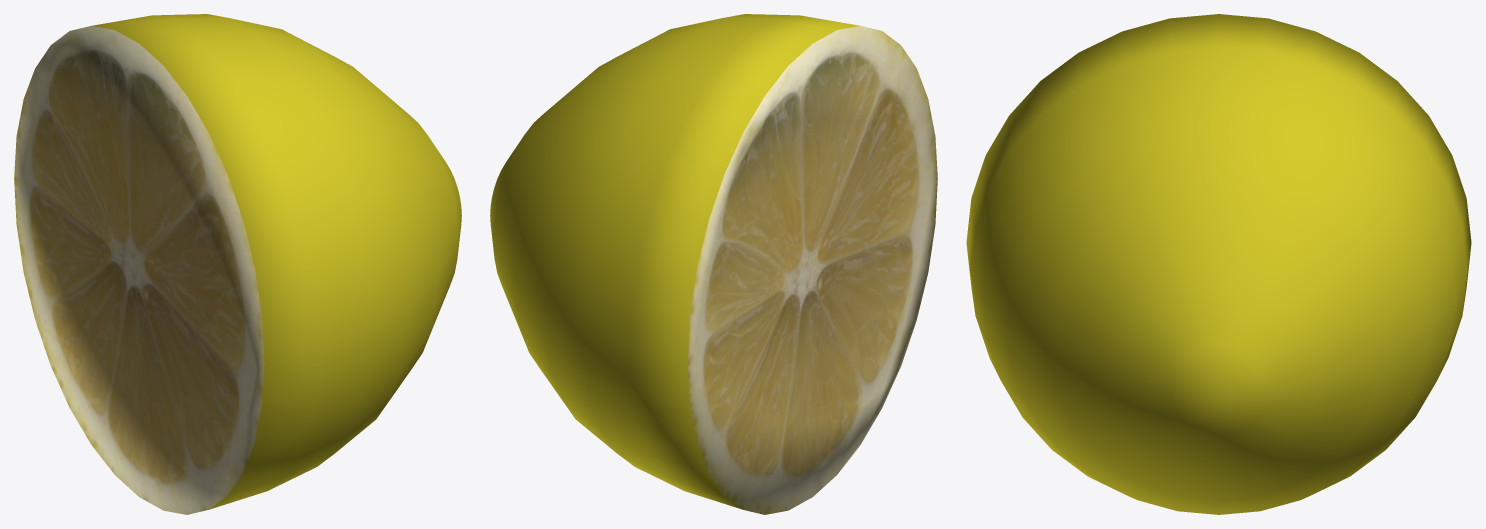
The model's file is lemon.fbx.
3 views of the same model, side by side, from view 1: azimuth 30°, elevation 25°; view 2: azimuth 150°, elevation 25°; view 3: azimuth 270°, elevation 25° (orthographic).
Visible parts, largest first — view 1: Circle_003; view 2: Circle_003; view 3: Circle_003.
Part boxes in pixels (box(x1,y1,x2,y2)): Circle_003: box(14, 14, 461, 514); Circle_003: box(490, 14, 937, 514); Circle_003: box(966, 14, 1471, 514).
Bounding box in the file's own units: 469 × 643 × 643.
